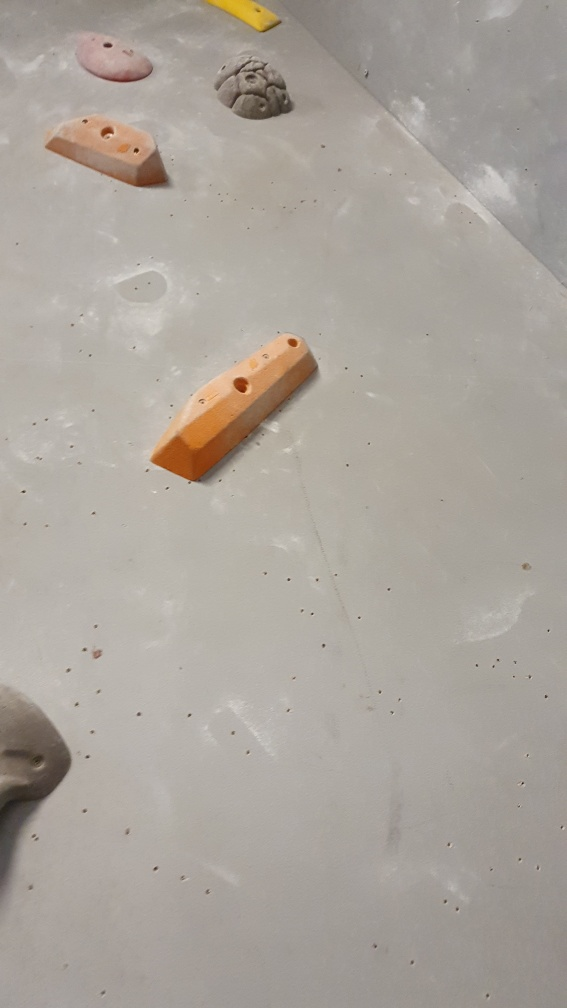Jug: (214, 48, 294, 123)
Pinch: (151, 331, 322, 485), (40, 111, 173, 190)
